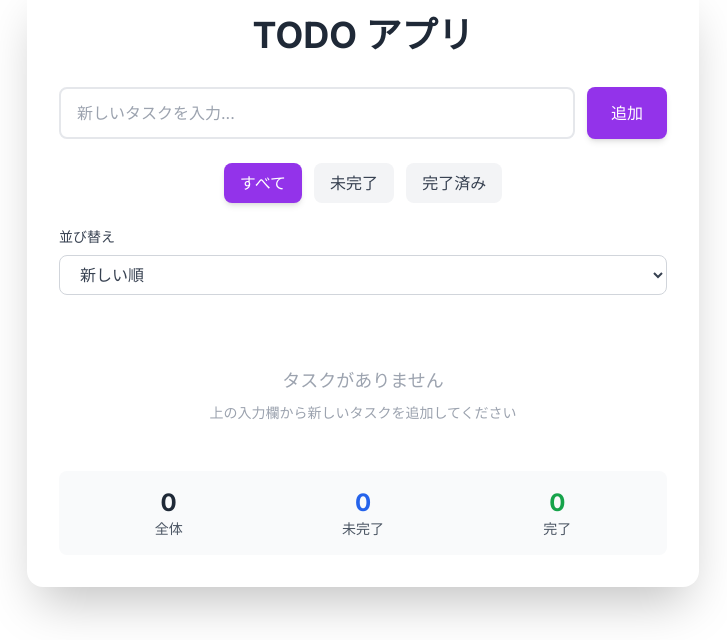
TodoApp › should add a new todo when user submits input
This screenshot has width=727, height=640.
Type "Buy groceries" into the field with placeholder "新しいタスクを入力..." at (317, 113), box [59, 87, 575, 139]
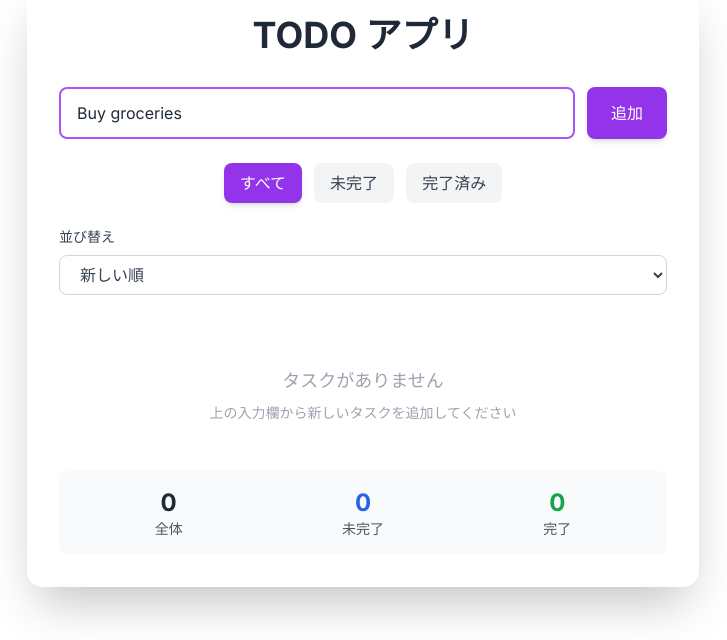
Click the button "追加" at (627, 113), box [587, 87, 667, 139]
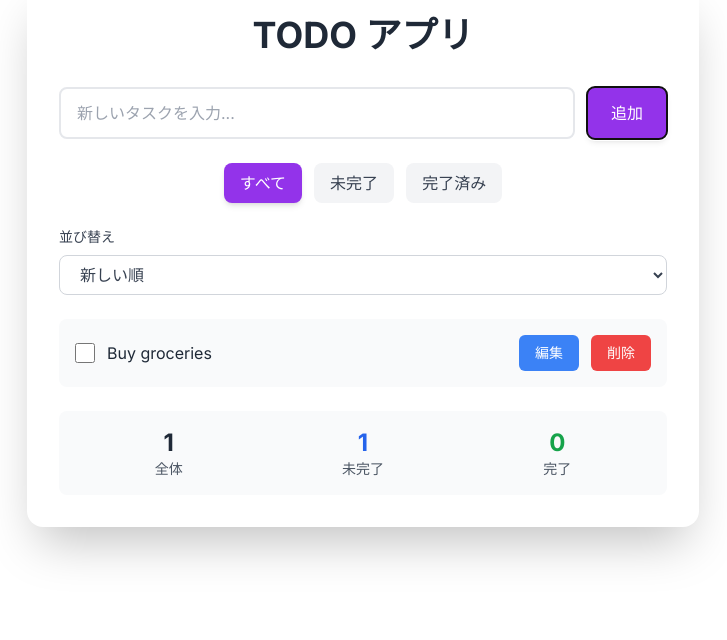
Result: the text "Buy groceries" is shown at [107, 343, 212, 363]
